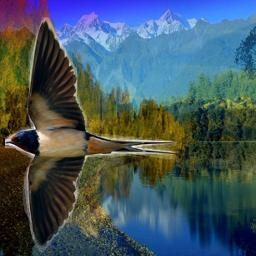Swallow: (5, 17, 179, 253)
